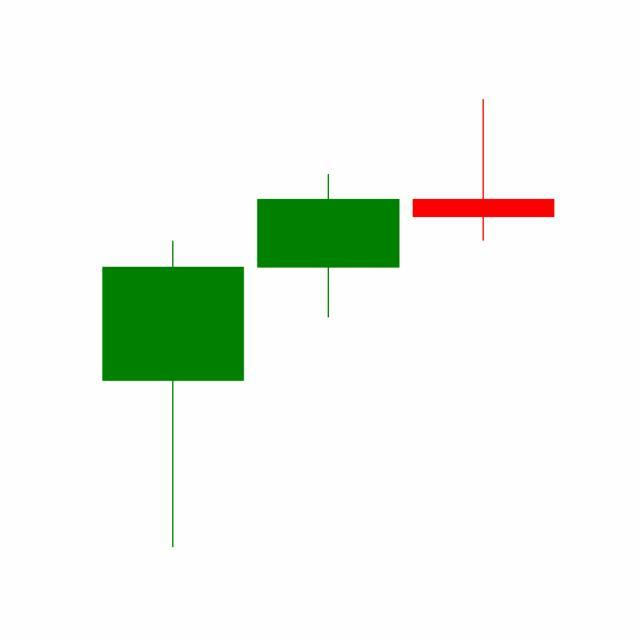Gravestone Doji: (406, 98, 562, 243)
